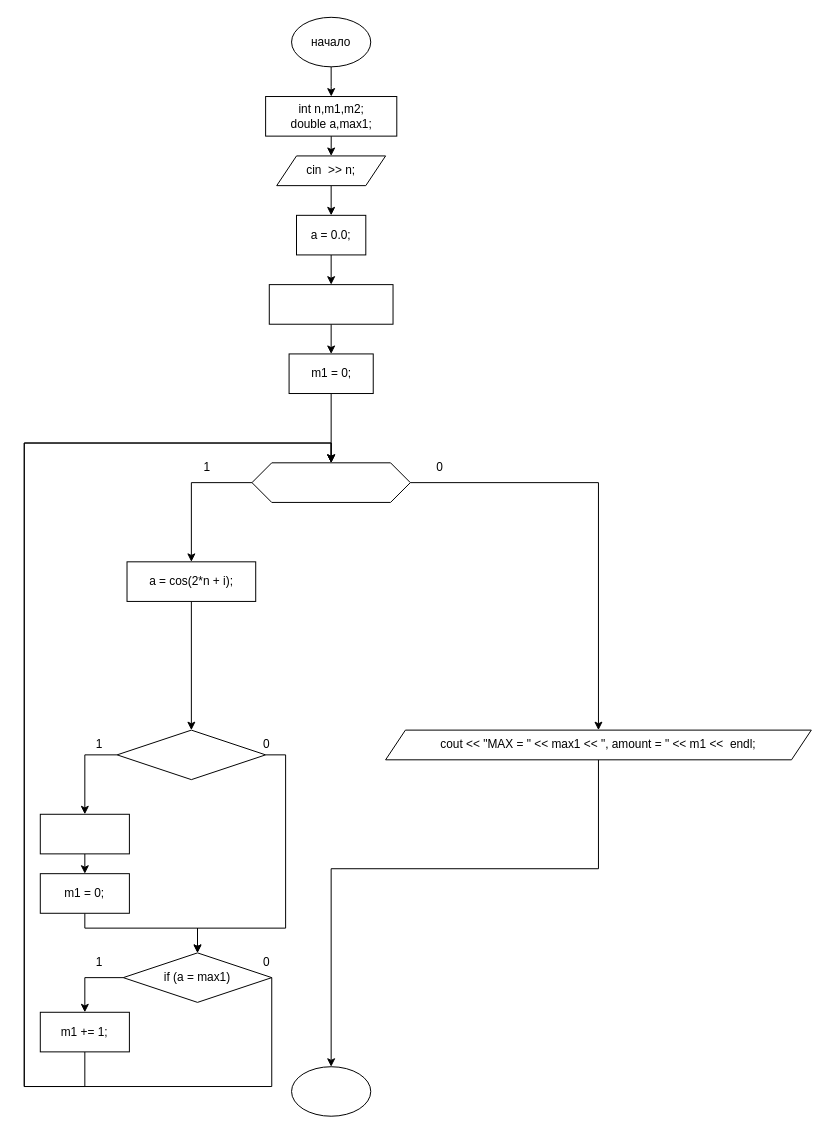
This 829x1134 diagram has some shape labels left out. The centre of each missing label's shape, as x and y in pixels:
for (int i=0; i<=1000; i++): [330,482]
if (a > max1): [191,754]
max1 = 0.0;: [330,304]
max1 = a;: [84,833]
конец: [331,1091]
